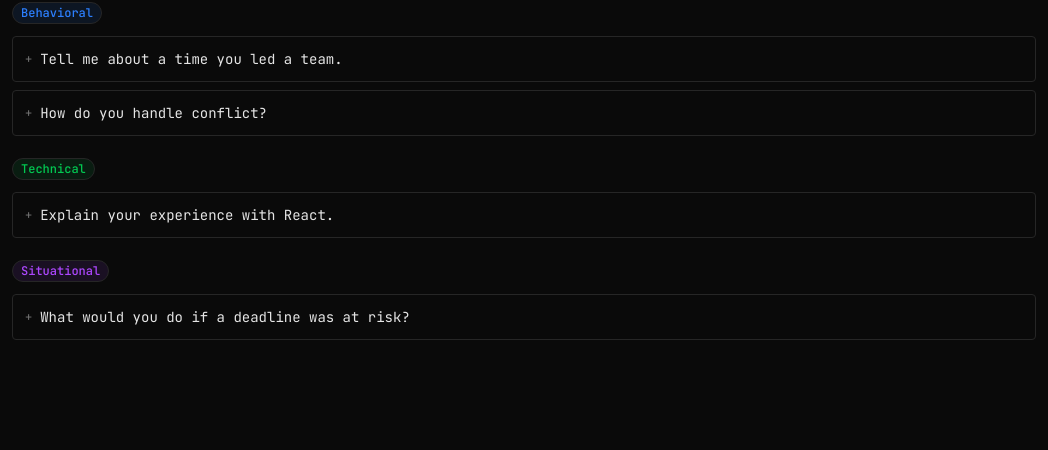
Test: InterviewPrepViewer › collapses answer on second click
Click the text "Tell me about a time you led a team.". click: click(191, 59)
box: x1=40 y1=49 x2=343 y2=69
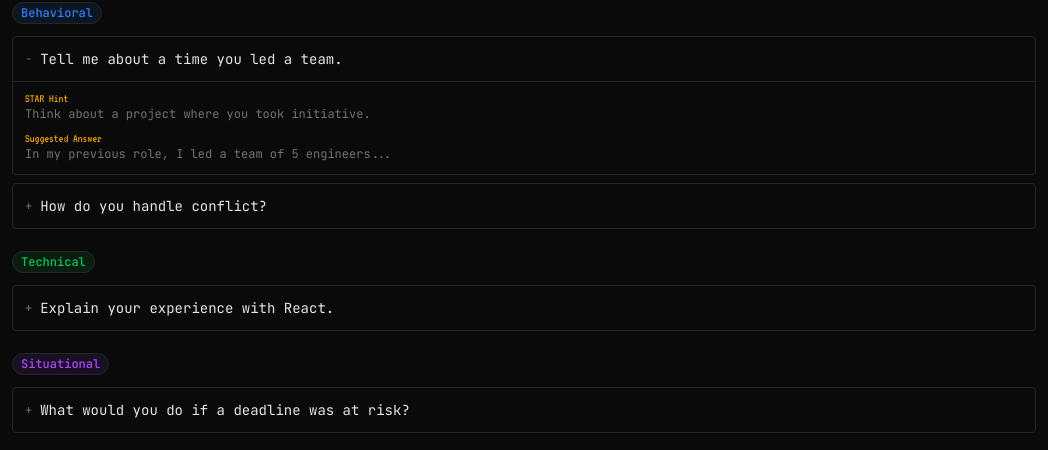
Result: the text "In my previous role, I led a team of 5 engineers..." is shown at x1=25 y1=146 x2=392 y2=162
Click the text "Tell me about a time you led a team.". click: click(191, 59)
box: x1=40 y1=49 x2=343 y2=69
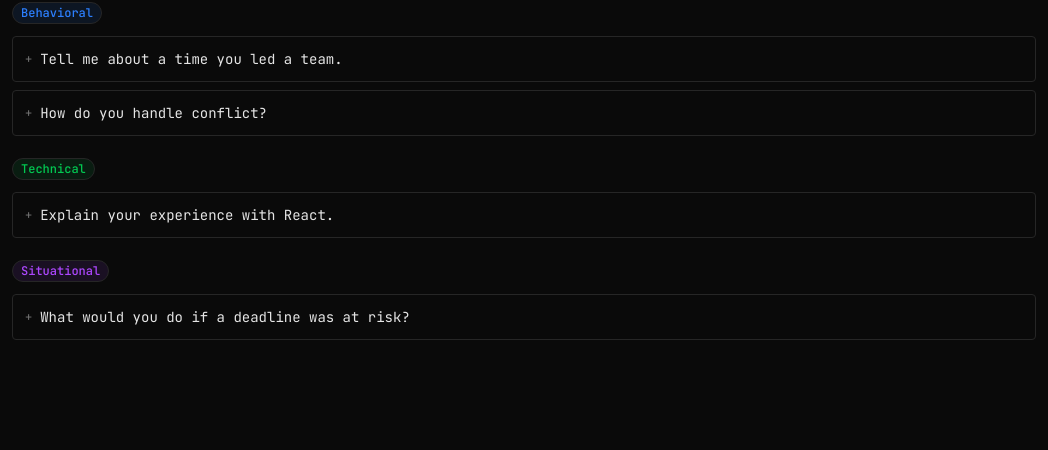
Result: the text "In my previous role" is gone
